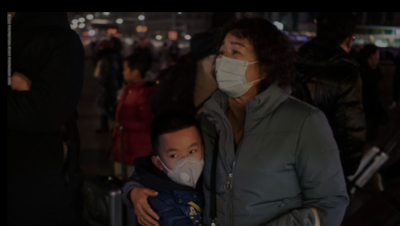with_mask: (214, 38, 257, 98), (162, 139, 203, 187)
without_mask: (121, 63, 133, 84)
